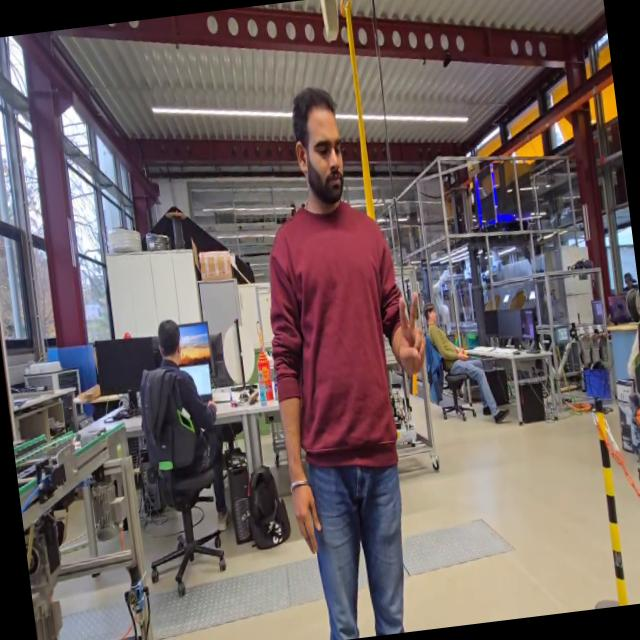v_sign: (388, 287, 432, 381)
